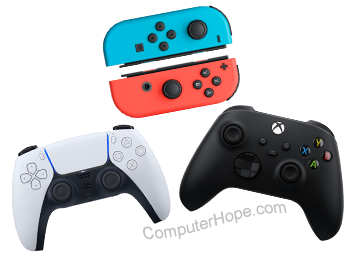controller: (179, 105, 344, 241), (12, 124, 171, 252)
